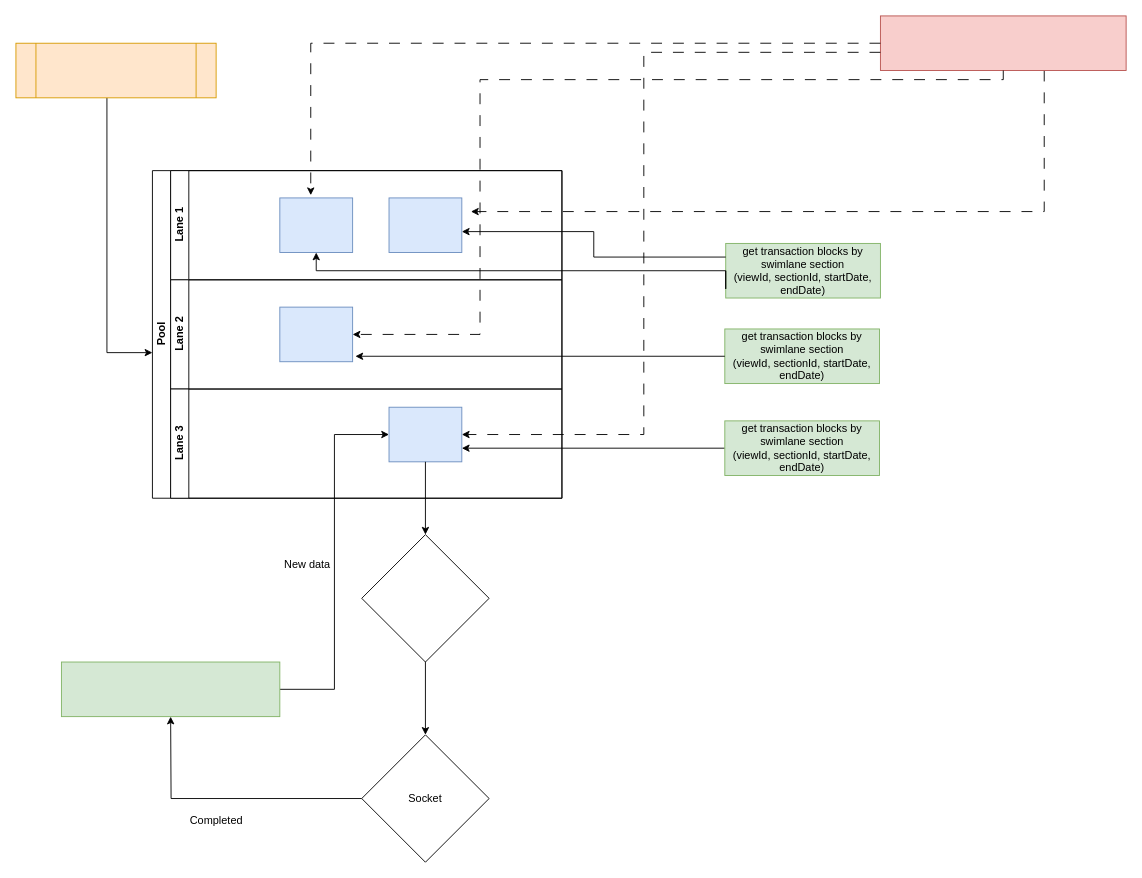
The diagram is 1142 pixels wide and 878 high, and some of its shapes have lost their labels. Here are the shapes that lost their labels. From the top down, the centre of each, then its label:
point (1003, 43): Get transaction blocks data (viewId, startDate, endDate)
point (115, 70): get swimlane config
point (425, 598): Update Tx Block
point (170, 689): get transaction block by transaction id (viewId, transactionId)
